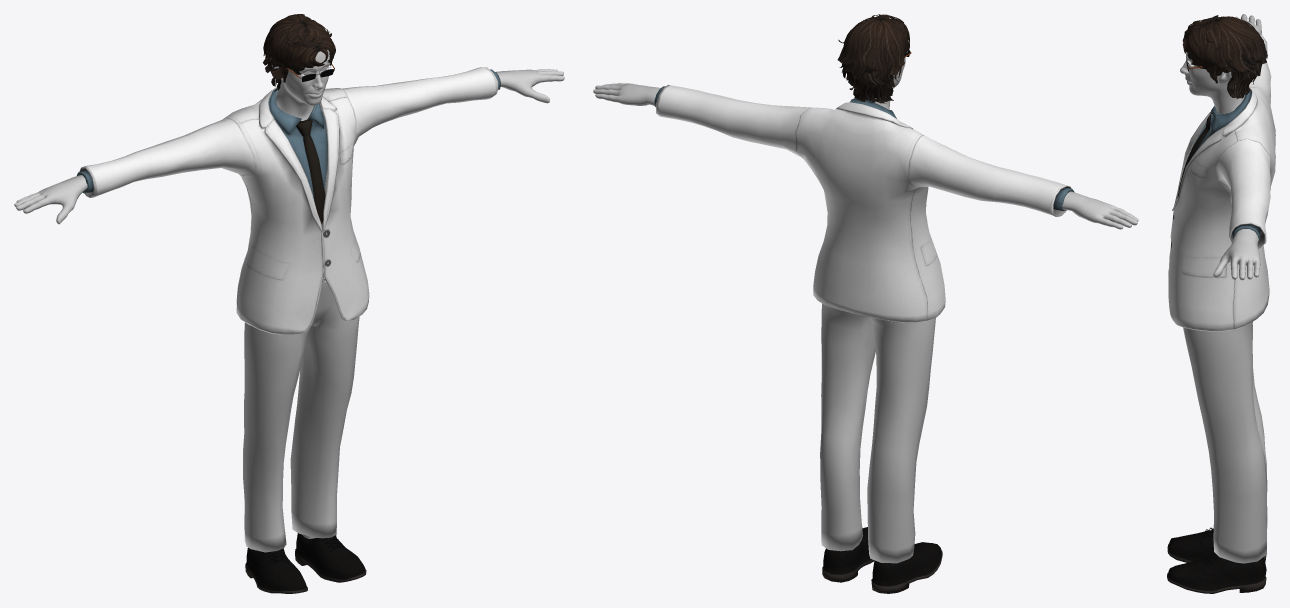
3 views of the same model, side by side, from view 1: azimuth 30°, elevation 25°; view 2: azimuth 150°, elevation 25°; view 3: azimuth 270°, elevation 25° (orthographic).
Parts seen in each view (by area): view 1: Wissenschaftler1; view 2: Wissenschaftler1; view 3: Wissenschaftler1.
Boxes of the visible parts, x1,y1,x2,y2 form: Wissenschaftler1: (14,14,564,593); Wissenschaftler1: (593,14,1138,593); Wissenschaftler1: (1167,14,1275,593).
Size of the model in its own units: 1.4 by 1.36 by 0.2422.
